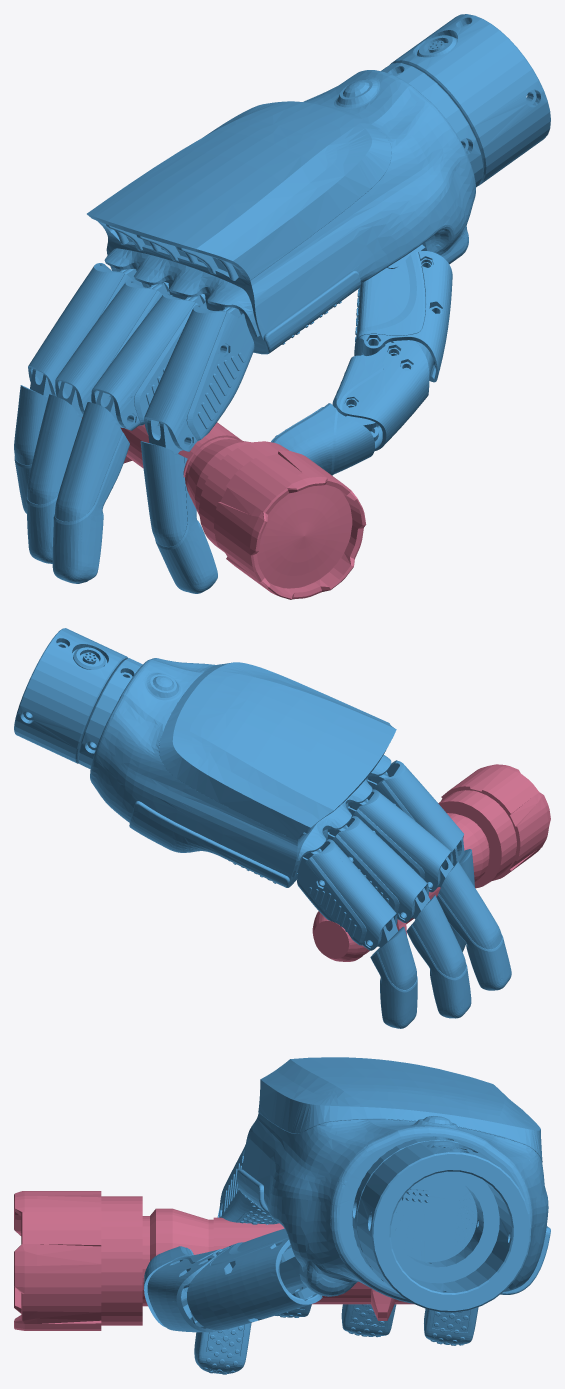
3 renders of one model, top to bottom at view 1: azimuth 30°, elevation 25°; view 2: azimuth 150°, elevation 25°; view 3: azimuth 270°, elevation 25°, orthographic. The views are drawn at different scales.
Parts seen in each view (by area): view 1: 5; view 2: 5; view 3: 5.
Part boxes in pixels (<box>): 5: <box>14,14,550,599</box>; 5: <box>14,628,550,1028</box>; 5: <box>14,1057,550,1374</box>.
Bounding box in the file's own units: 0.2074 × 0.1468 × 0.166.
